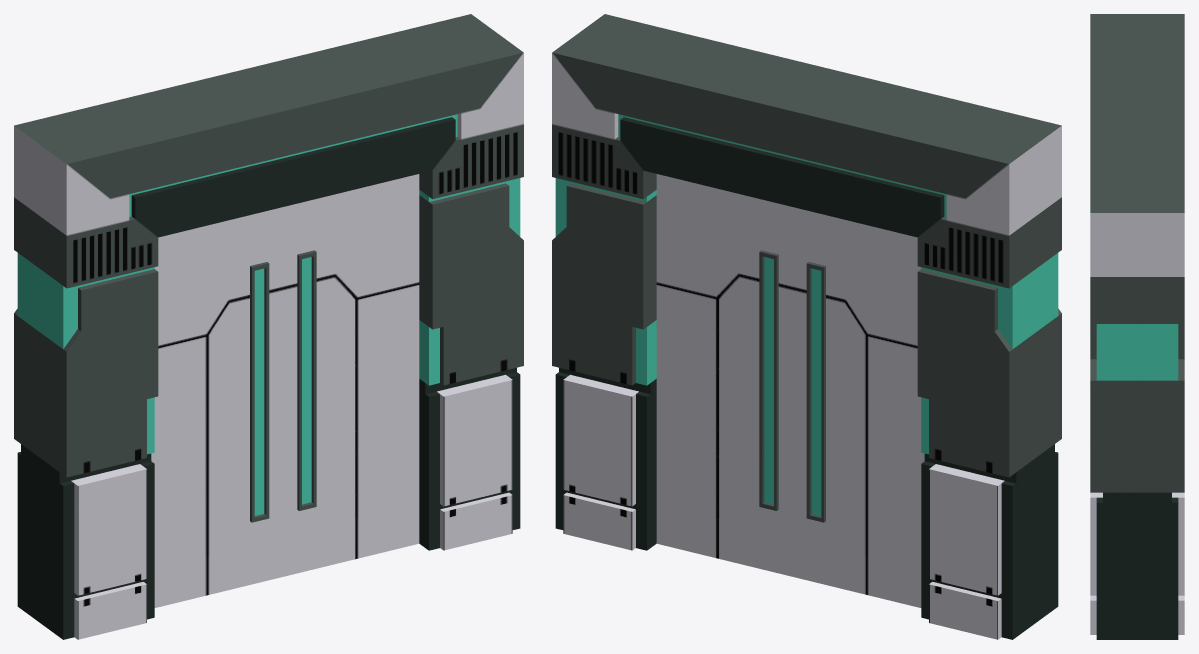
File: Pintu.fbx
The picture shows the model from 3 angles, left to right: view 1: azimuth 30°, elevation 25°; view 2: azimuth 150°, elevation 25°; view 3: azimuth 270°, elevation 25°; orthographic projection. The views are drawn at different scales.
Visible parts, largest first — view 1: Pintu, Pintu.001, Pintu.002; view 2: Pintu, Pintu.001, Pintu.002; view 3: Pintu.
Part boxes in pixels (box(x1,y1,x2,y2)): Pintu: box(14, 14, 523, 639); Pintu.001: box(282, 174, 419, 576); Pintu.002: box(151, 207, 282, 607); Pintu: box(552, 14, 1061, 639); Pintu.001: box(656, 174, 793, 576); Pintu.002: box(793, 207, 924, 607); Pintu: box(1090, 14, 1184, 639).
Size of the model in its own units: 300 by 300 by 60.
